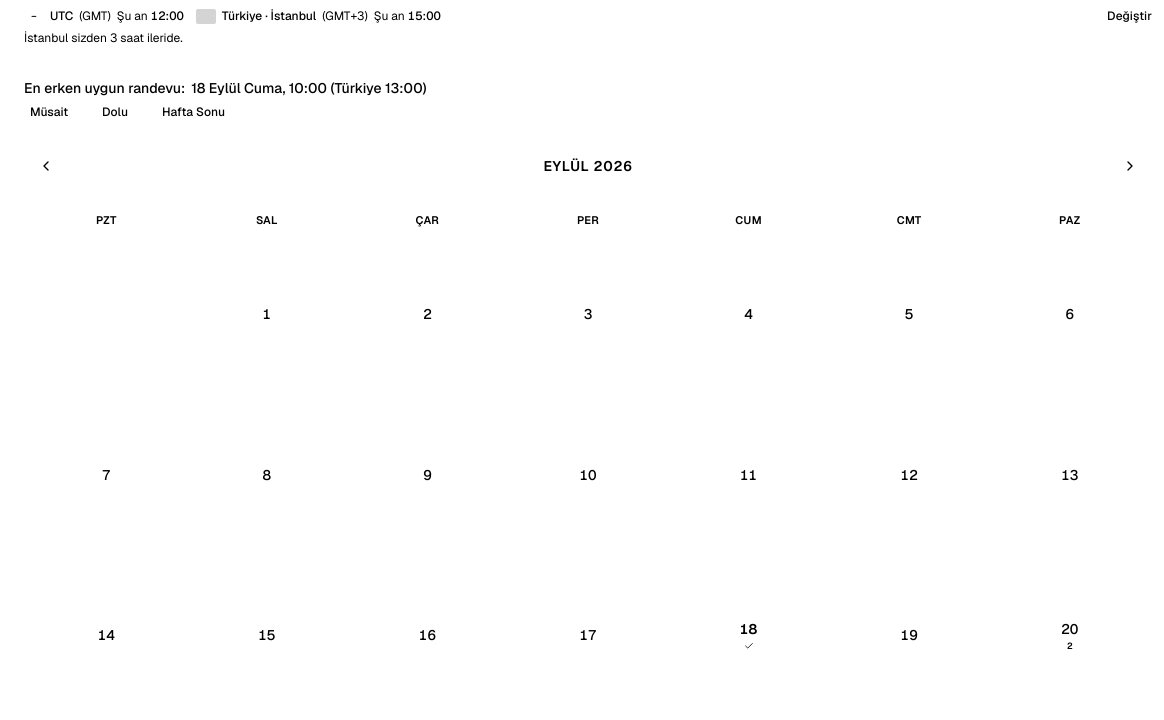
Scenario: AvailabilityCalendar › §2.3.2.1 — QA bug düzeltmesi: seçili gün ≡ en yakın müsait gün olduğunda koşullu bilgi satırı görünür, başka bir gün seçilince kaybolur
Başka bir günü (20 Eylül) seçince çakışma ortadan kalkar, satır KAYBOLUR.
Click the button labelled "20 2" at [1070, 636], box [991, 557, 1148, 714]
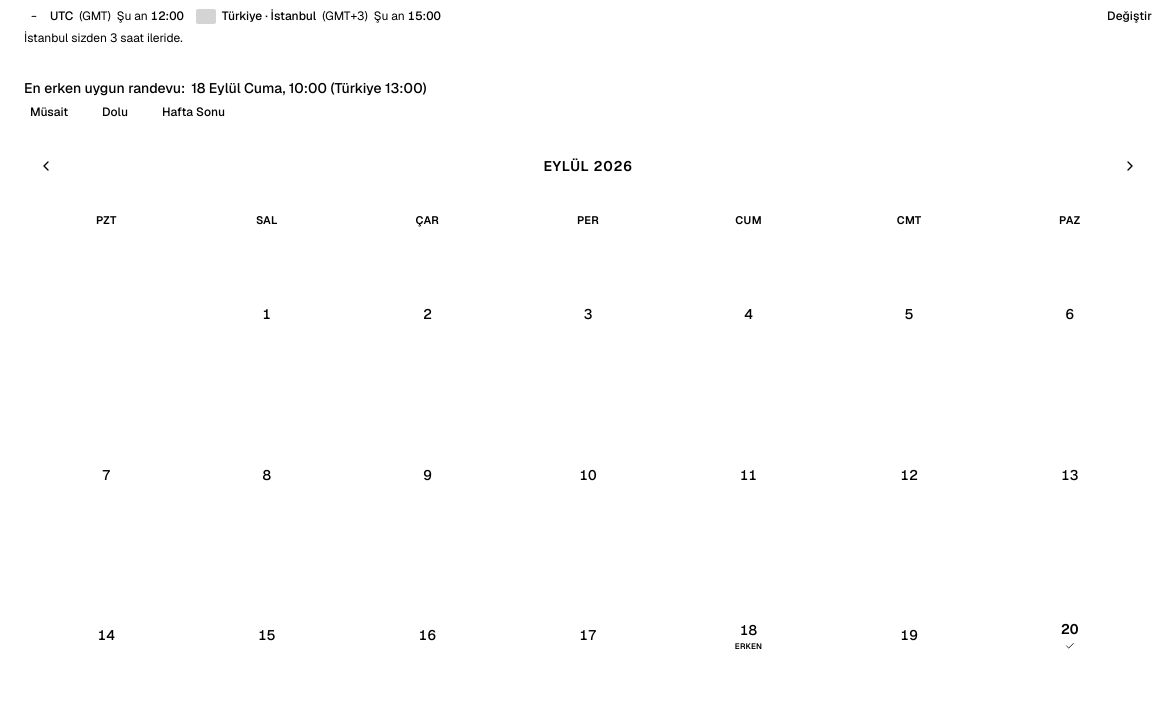
Tekrar en yakın müsait güne (18 Eylül) dönülünce satır YENİDEN görünür.
Click the button labelled "18 Erken" at [749, 636], box [670, 557, 827, 714]
(page scrolled)
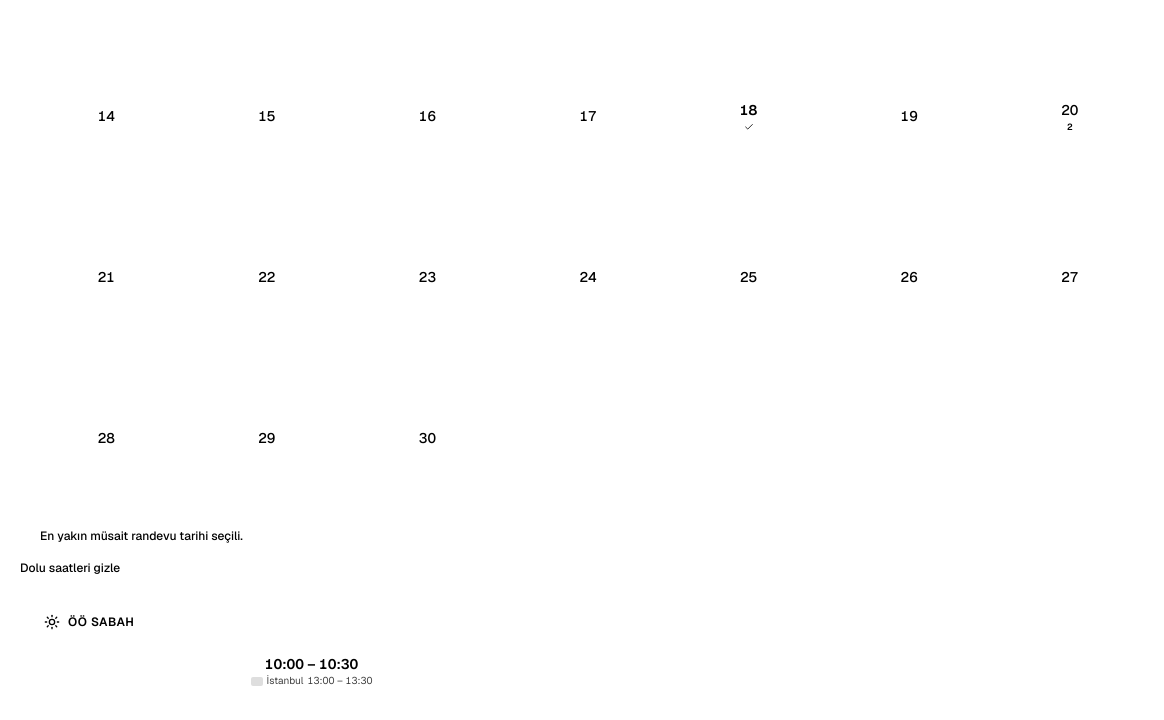
Now the text "En yakın müsait randevu tarihi seçili." is shown, box [40, 528, 243, 544]
